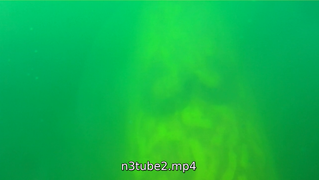3: (140, 54, 240, 118)
pipe: (124, 1, 278, 179)
